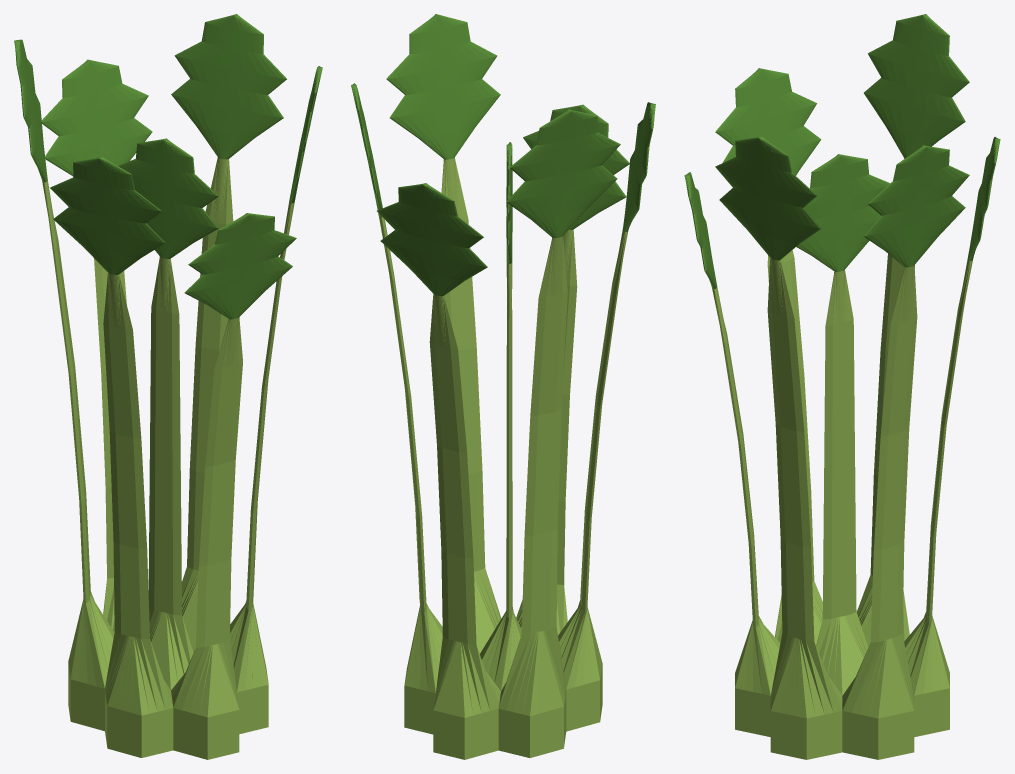
Rendered from NEW_RECOVERY_081_LOD0.fbx.
3 renders of one model, left to right at view 1: azimuth 30°, elevation 25°; view 2: azimuth 150°, elevation 25°; view 3: azimuth 270°, elevation 25°, orthographic. The views are drawn at different scales.
Visible parts, largest first — view 1: Whole_celery_bunch; view 2: Whole_celery_bunch; view 3: Whole_celery_bunch.
Boxes of the visible parts, x1,y1,x2,y2 form: Whole_celery_bunch: (14, 14, 322, 759); Whole_celery_bunch: (351, 14, 655, 759); Whole_celery_bunch: (684, 14, 1000, 759).
Bounding box in the file's own units: 14.92 × 15.88 × 36.3.
